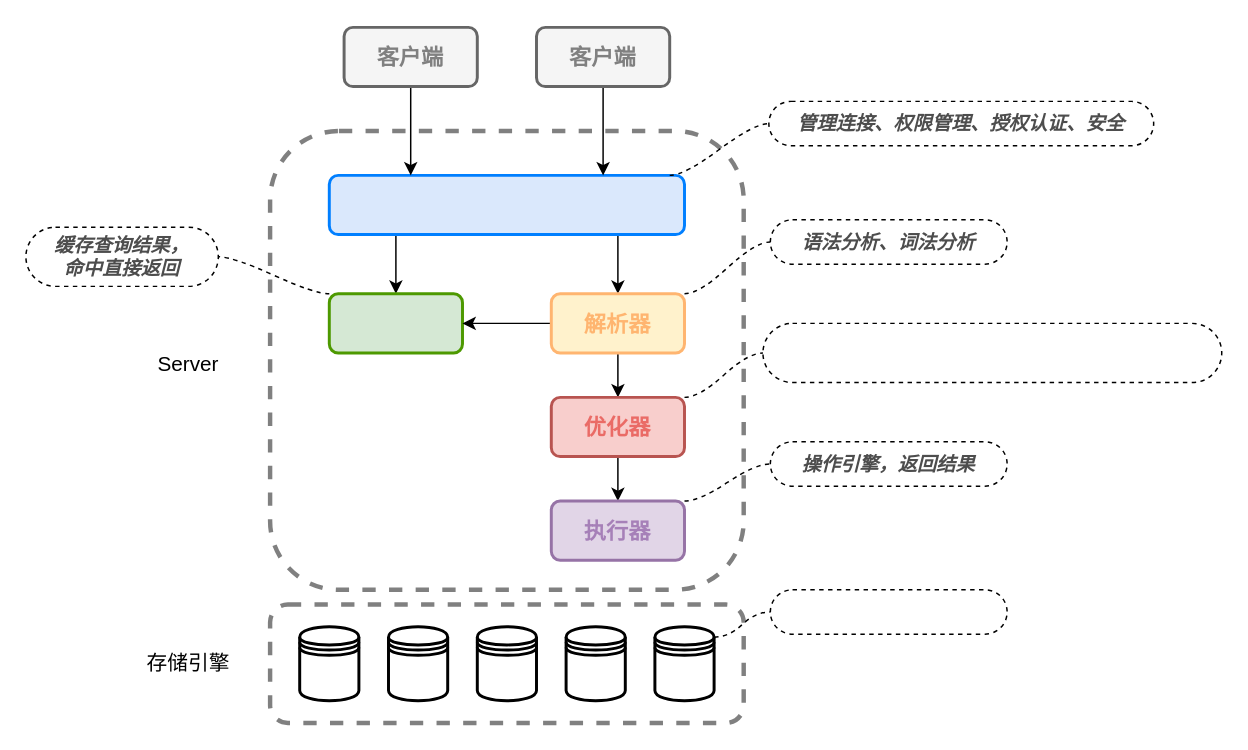
Image size: 1248x750. Some labels were removed from this diagram. The shapes that lost their labels are listed below. From the top down, each one's centre as x and y in pixels, then its label:
(x=506, y=204): 连接器
(x=395, y=323): 查询缓存
(x=991, y=352): 执行计划生成、各种优化 （重写查询、表读取顺序、选择合适索引等等）
(x=888, y=611): 存储数据，提供接口
